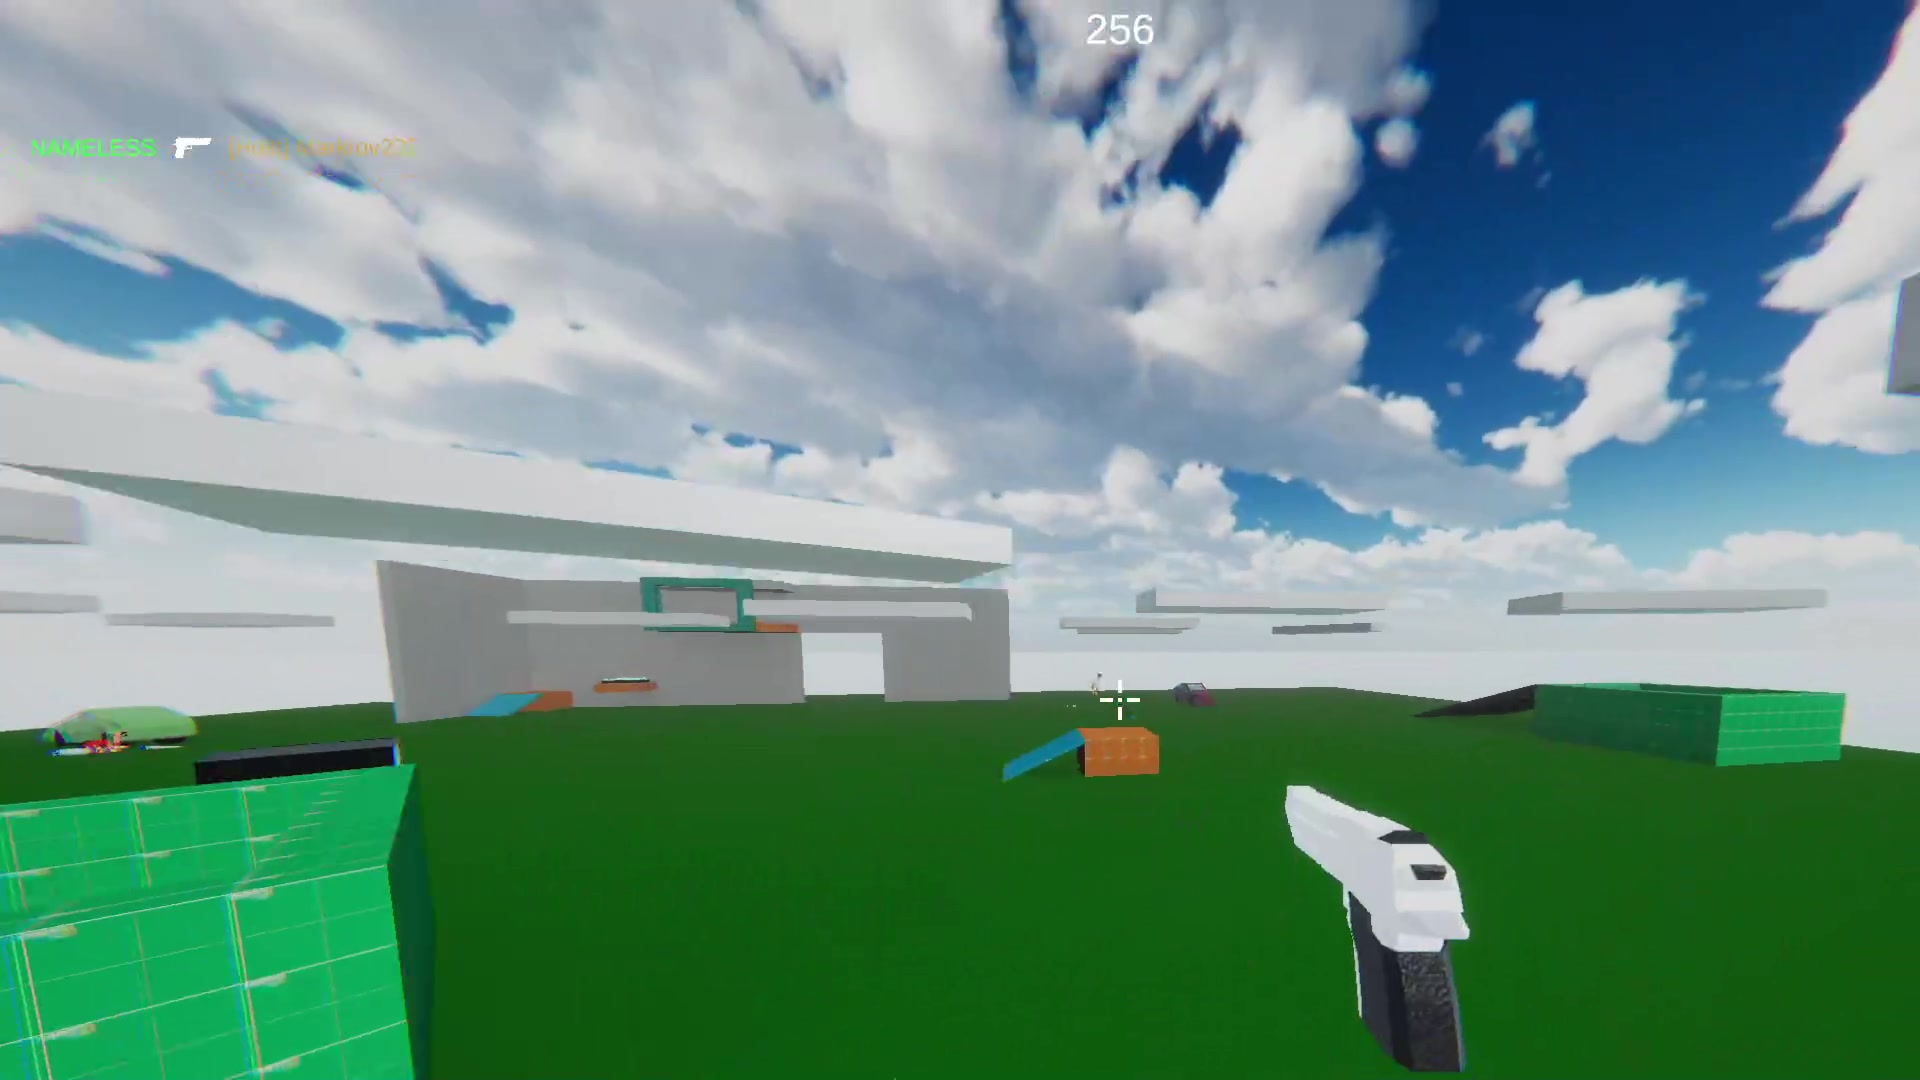human: (1091, 668, 1104, 700)
